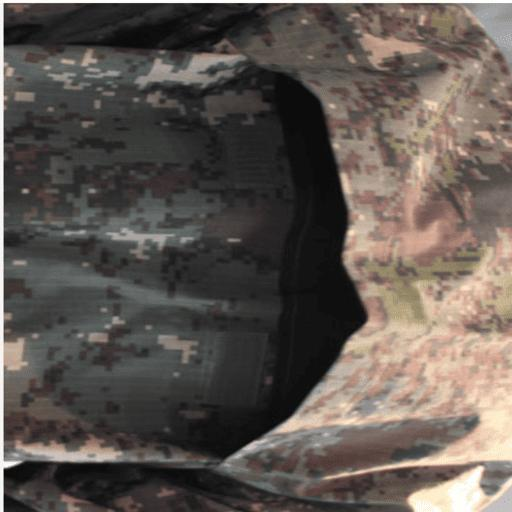korea army: (6, 3, 512, 508)
